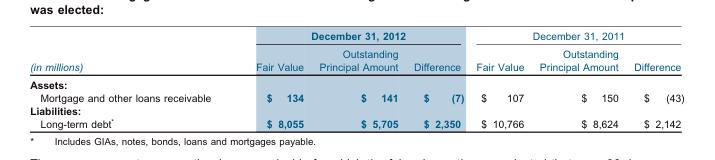table: (29, 29, 683, 128)
table column: (29, 29, 232, 128), (310, 29, 405, 128), (531, 29, 625, 128), (232, 29, 310, 128), (405, 29, 469, 128), (469, 29, 531, 128), (625, 29, 683, 128)
table column header: (29, 29, 683, 75)
table projected row header: (29, 75, 683, 90), (29, 103, 683, 116)
table row: (29, 44, 683, 75), (29, 29, 683, 44), (29, 75, 683, 90), (29, 90, 683, 103), (29, 103, 683, 116), (29, 116, 683, 128)
table spanning cell: (29, 29, 232, 75), (232, 29, 469, 44), (469, 29, 683, 44)
